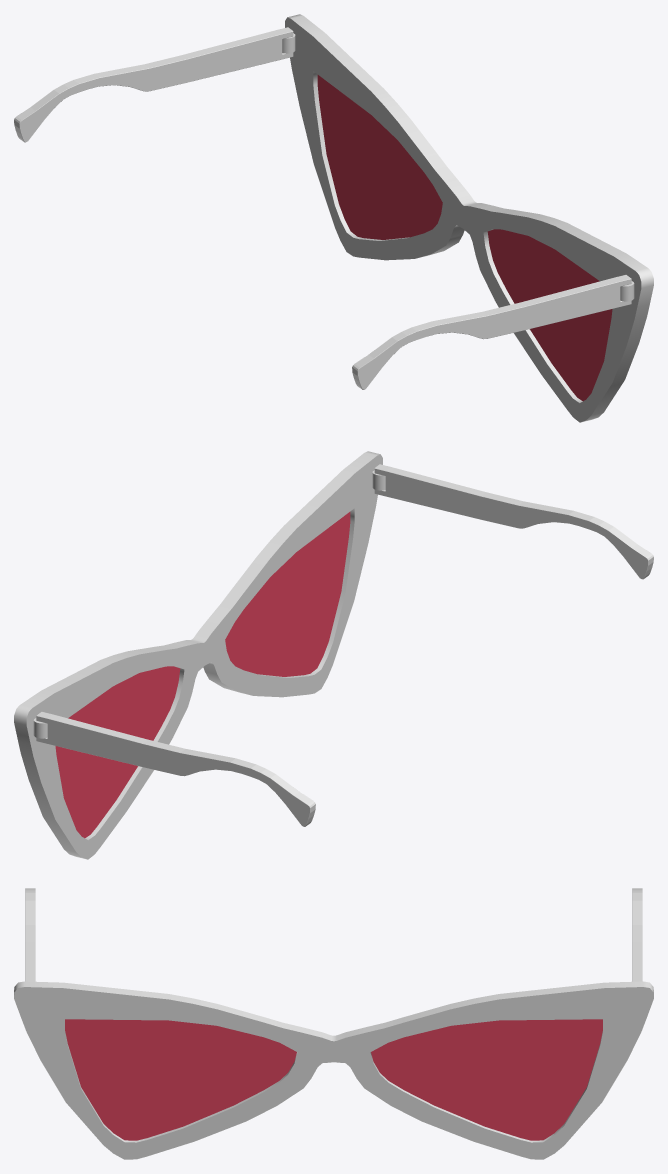
File: glasses.fbx
The picture shows the model from 3 angles, top to bottom: view 1: azimuth 30°, elevation 25°; view 2: azimuth 150°, elevation 25°; view 3: azimuth 270°, elevation 25°; orthographic projection. The views are drawn at different scales.
Parts seen in each view (by area): view 1: glasses_low, oprava_low; view 2: glasses_low, oprava_low; view 3: glasses_low, oprava_low.
Boxes of the visible parts, x1=… form: glasses_low: x1=282, y1=14, x2=653, y2=422; oprava_low: x1=14, y1=27, x2=631, y2=389; glasses_low: x1=14, y1=451, x2=385, y2=859; oprava_low: x1=36, y1=464, x2=653, y2=826; glasses_low: x1=14, y1=981, x2=653, y2=1159; oprava_low: x1=25, y1=888, x2=642, y2=981.
Bounding box in the file's own units: 126 × 80.02 × 269.
